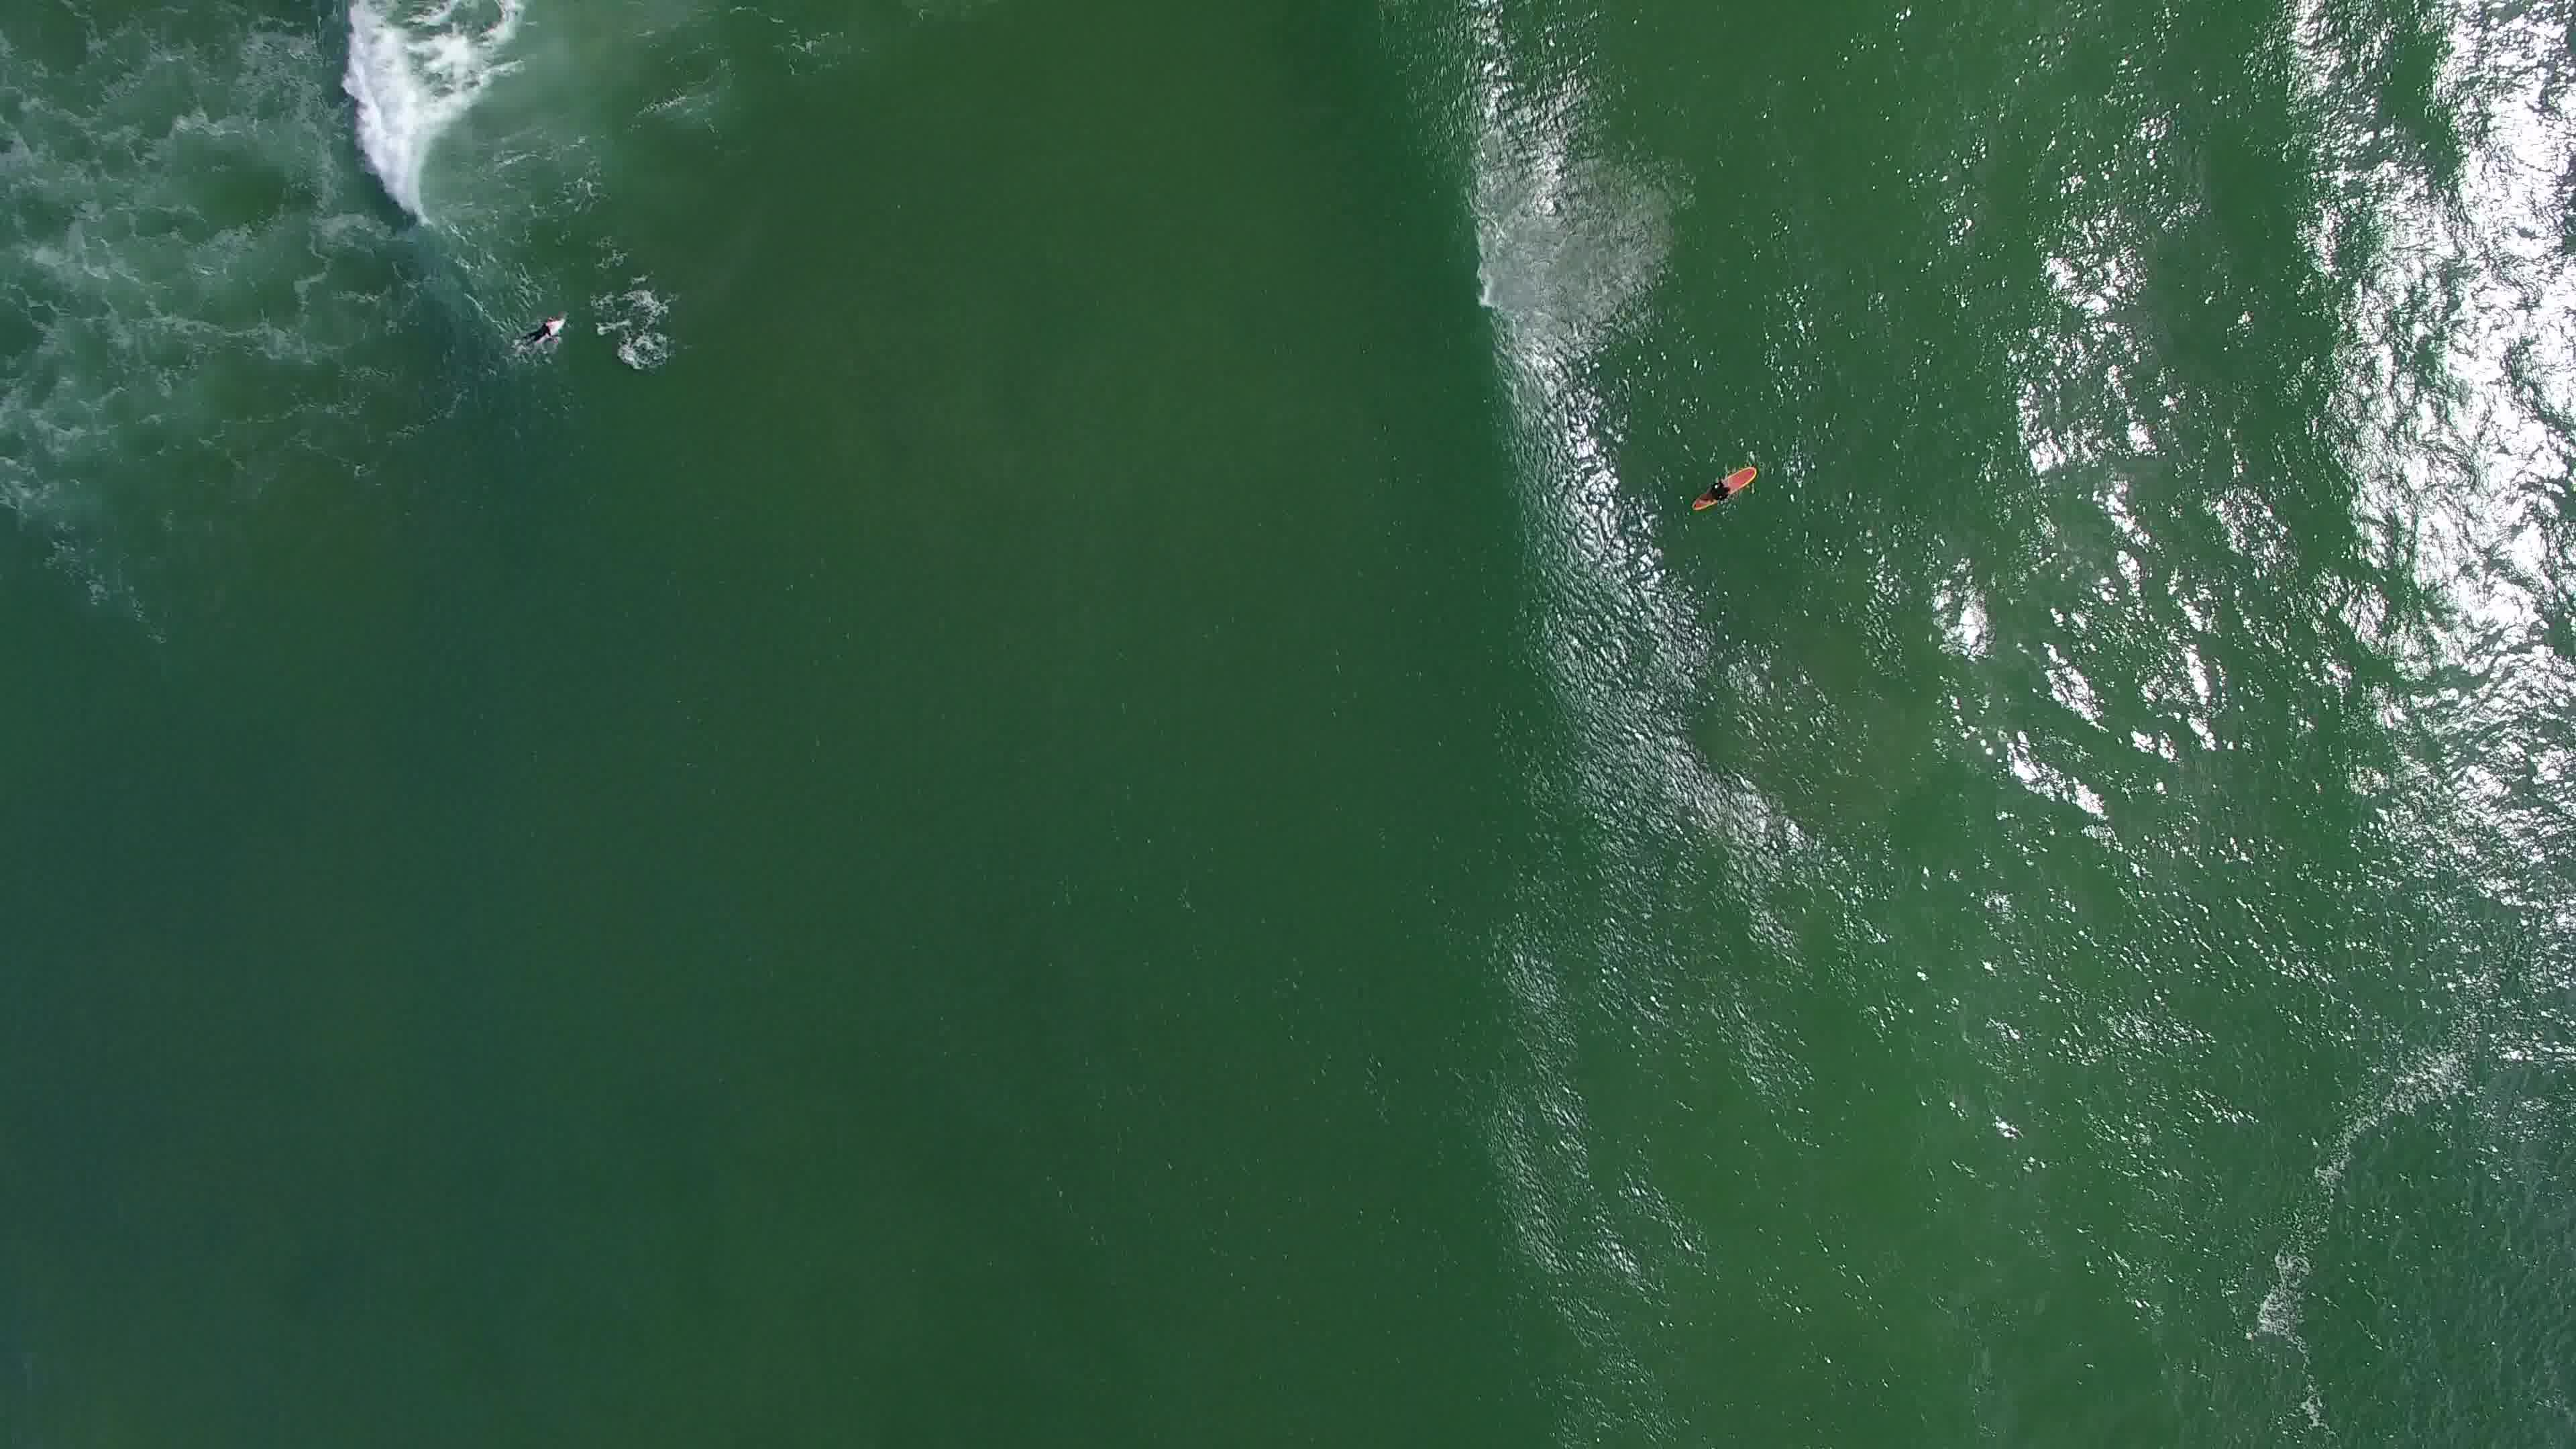surfer: (1691, 458, 1766, 518), (513, 306, 570, 361)
